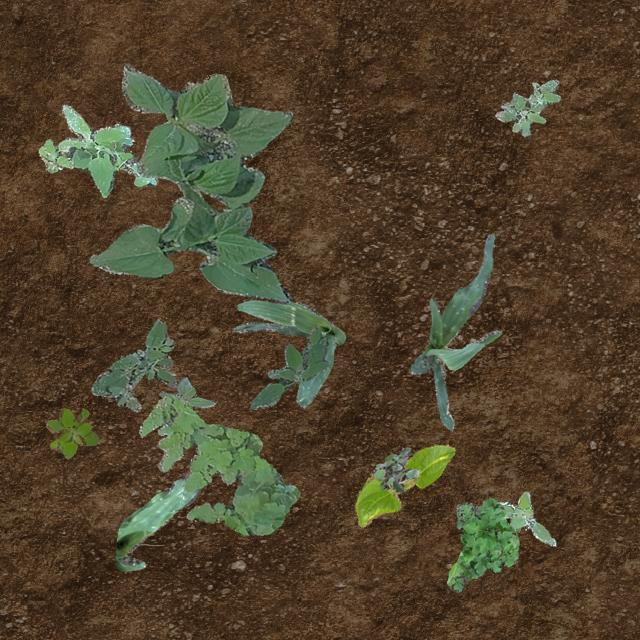crop: (88, 61, 292, 302), (410, 232, 500, 430), (232, 298, 344, 406), (114, 472, 200, 570), (354, 444, 454, 526)
weed: (138, 394, 298, 534), (37, 104, 156, 196), (90, 318, 176, 411), (446, 496, 518, 592), (250, 326, 328, 408), (494, 78, 560, 136), (498, 490, 556, 544), (44, 407, 98, 458), (372, 446, 418, 492), (158, 376, 215, 408)
